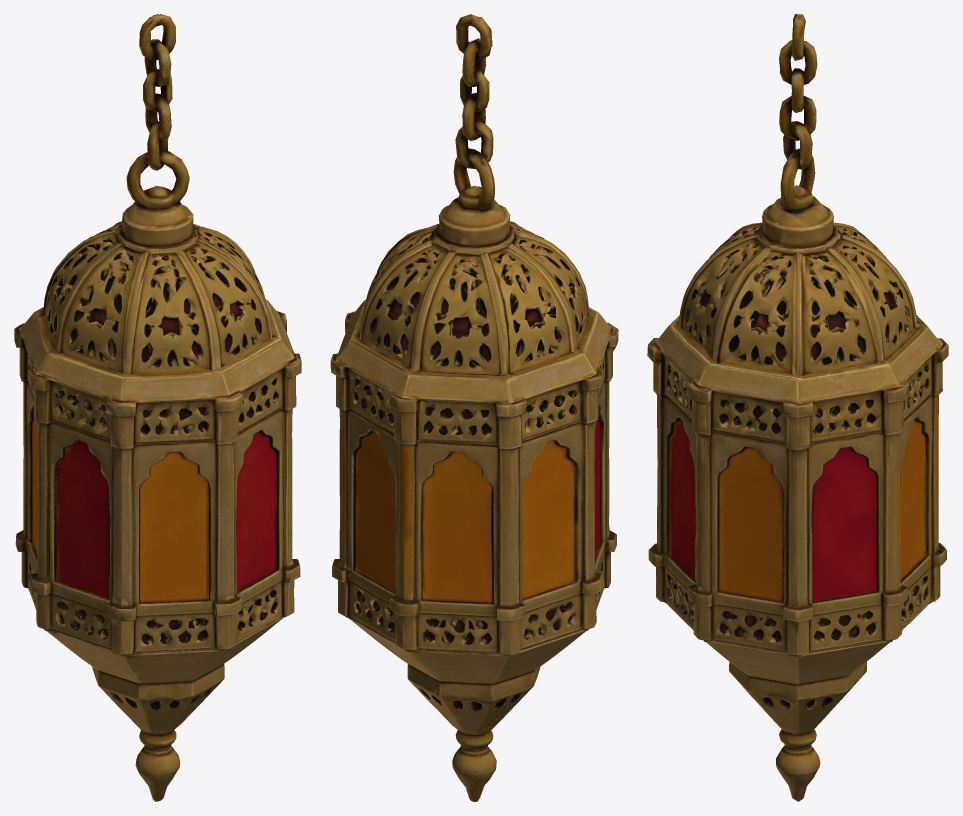
File: souq_lantern.glb
The picture shows the model from 3 angles, left to right: view 1: azimuth 30°, elevation 25°; view 2: azimuth 150°, elevation 25°; view 3: azimuth 270°, elevation 25°; orthographic projection.
Bounding box in the file's own units: 0.3331 × 0.982 × 0.3412.
1 material, 1 textured.
